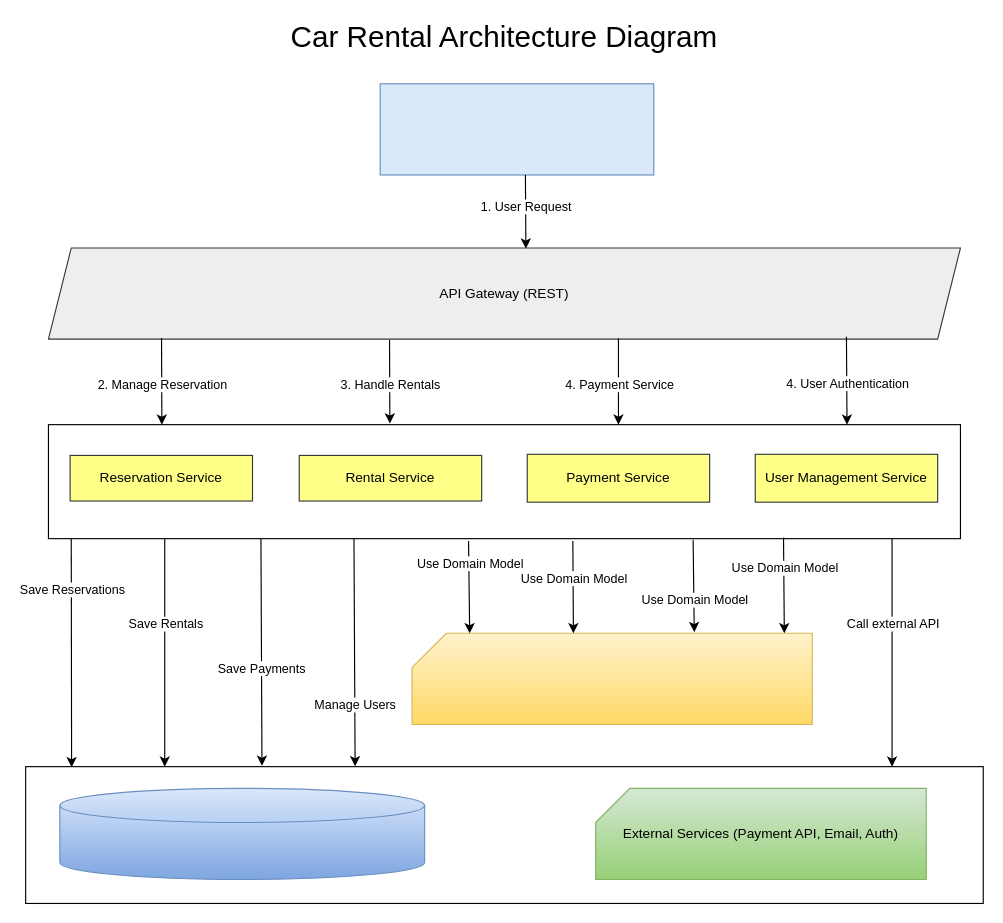
This 1003x923 diagram has some shape labels left out. Each missing label, with the centre of its shape:
Domain Layer Reserve, Rental, Car, Payment: [611,678]
Frontend (Web, Mobile UI) React: [516,129]
MySQL: [242,833]
